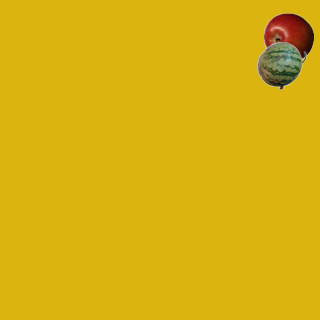Apple Braeburn: (263, 12, 313, 62)
Watermelon: (256, 40, 306, 90)
